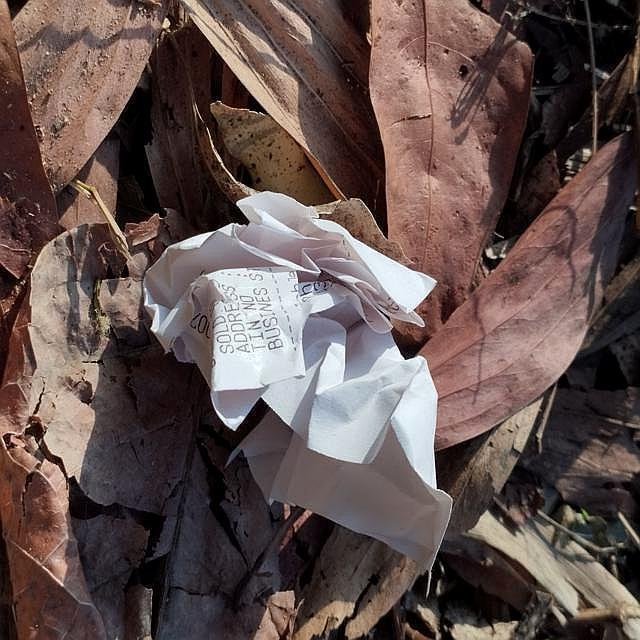Biodegradable: (147, 189, 455, 553)
